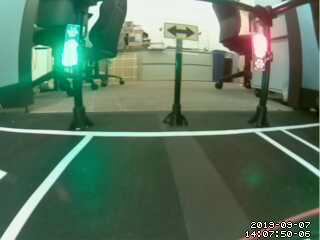Left_Right_sign: (163, 24, 198, 40)
Traffic_light_green: (66, 28, 78, 66)
Traffic_light_red: (254, 35, 269, 69)
